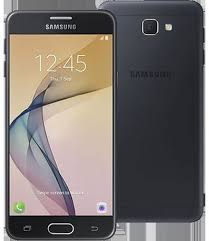samsung: (4, 10, 118, 240), (97, 1, 204, 224)
